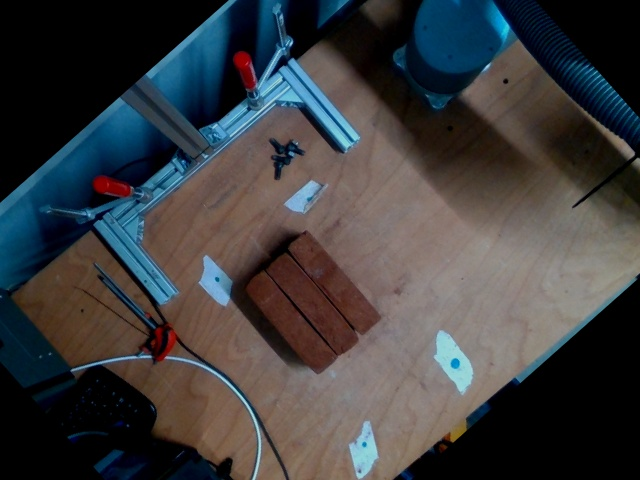brick-side: (285, 230, 383, 335), (242, 270, 338, 377), (264, 250, 360, 356)
